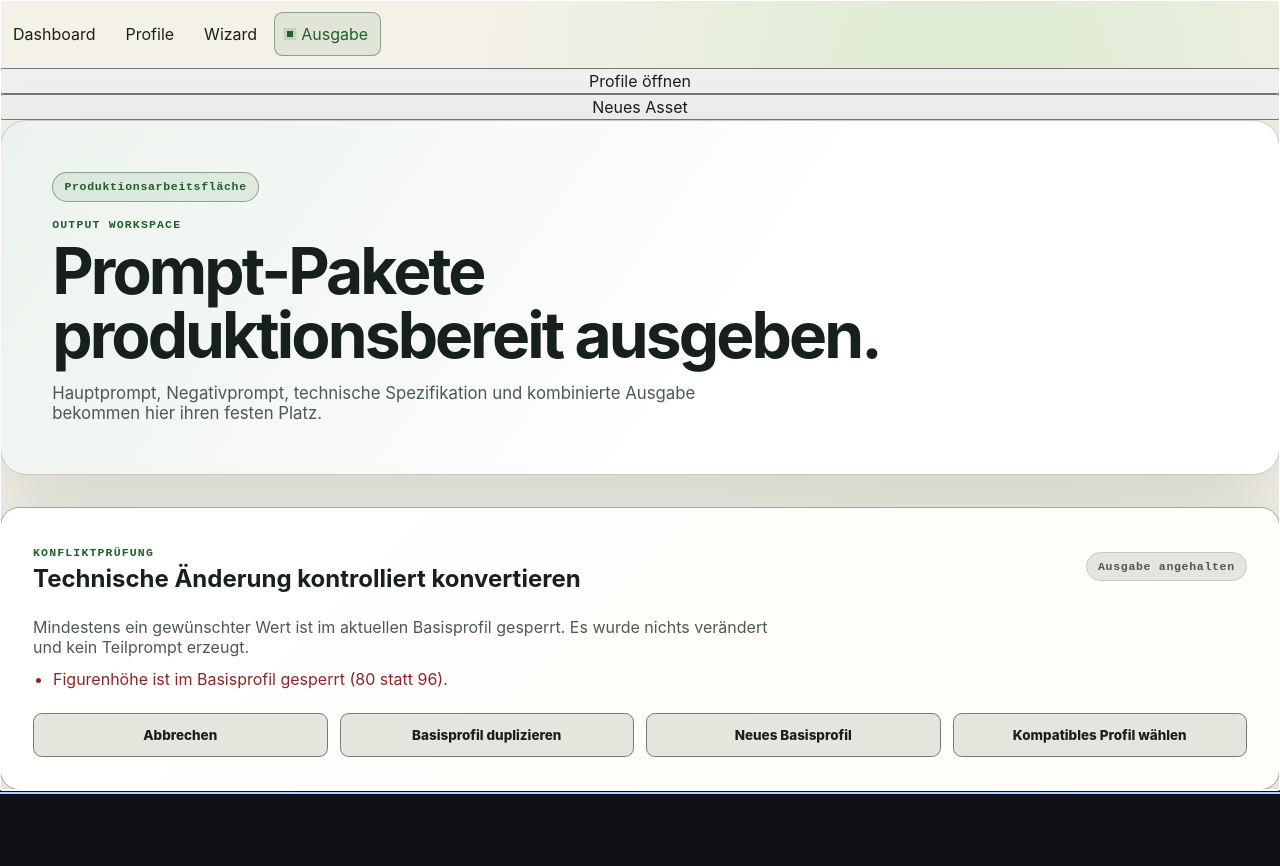
Test: ReviewOutputWorkspace › switches to an existing exact 96 px family without mutating the profile library
What coordinates should you click on to do the following:
click the button "Kompatibles Profil wählen"
I would click on:
 (1100, 735)
Its box is x1=952 y1=713 x2=1247 y2=757.
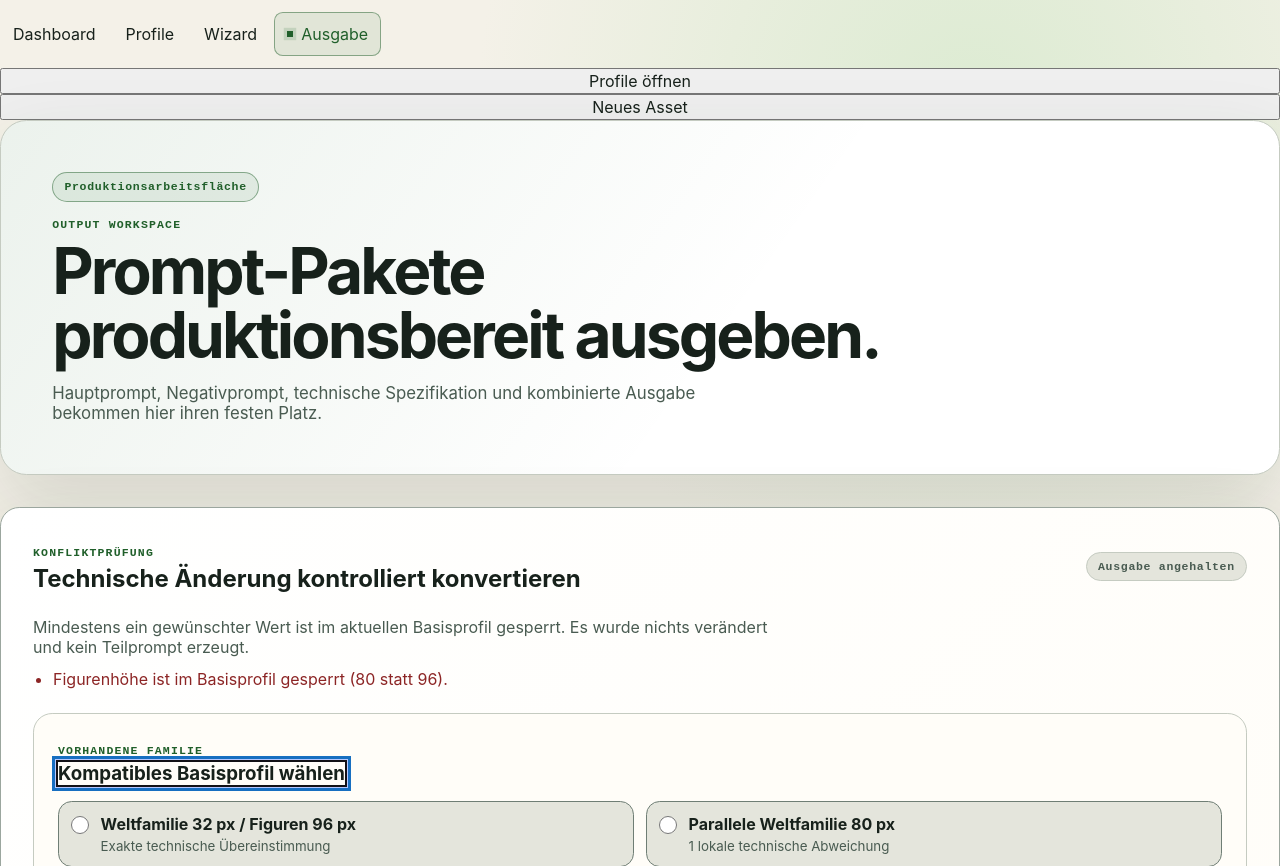
What coordinates should you click on to do the following:
click the 1st radio button
I would click on:
 (80, 825)
Its box is x1=71 y1=816 x2=89 y2=834.
(page scrolled)
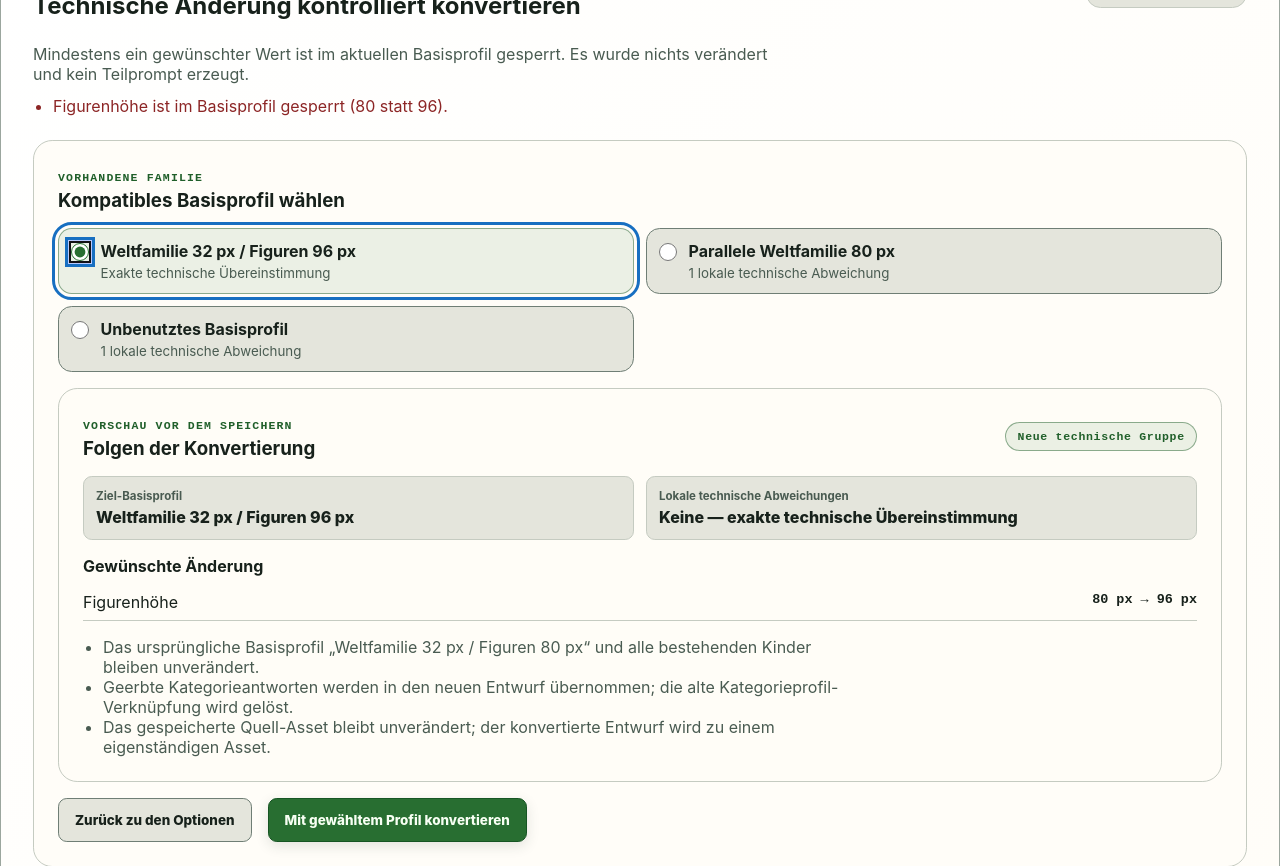
Now the text "Neue technische Gruppe" is shown, box x1=1005 y1=422 x2=1197 y2=451
Now the text "80 px → 96 px" is shown, box x1=1092 y1=592 x2=1197 y2=612
What coordinates should you click on to do the following:
click the button "Mit gewähltem Profil konvertieren"
I would click on:
 (397, 820)
Its box is x1=268 y1=798 x2=527 y2=842.
(page scrolled)
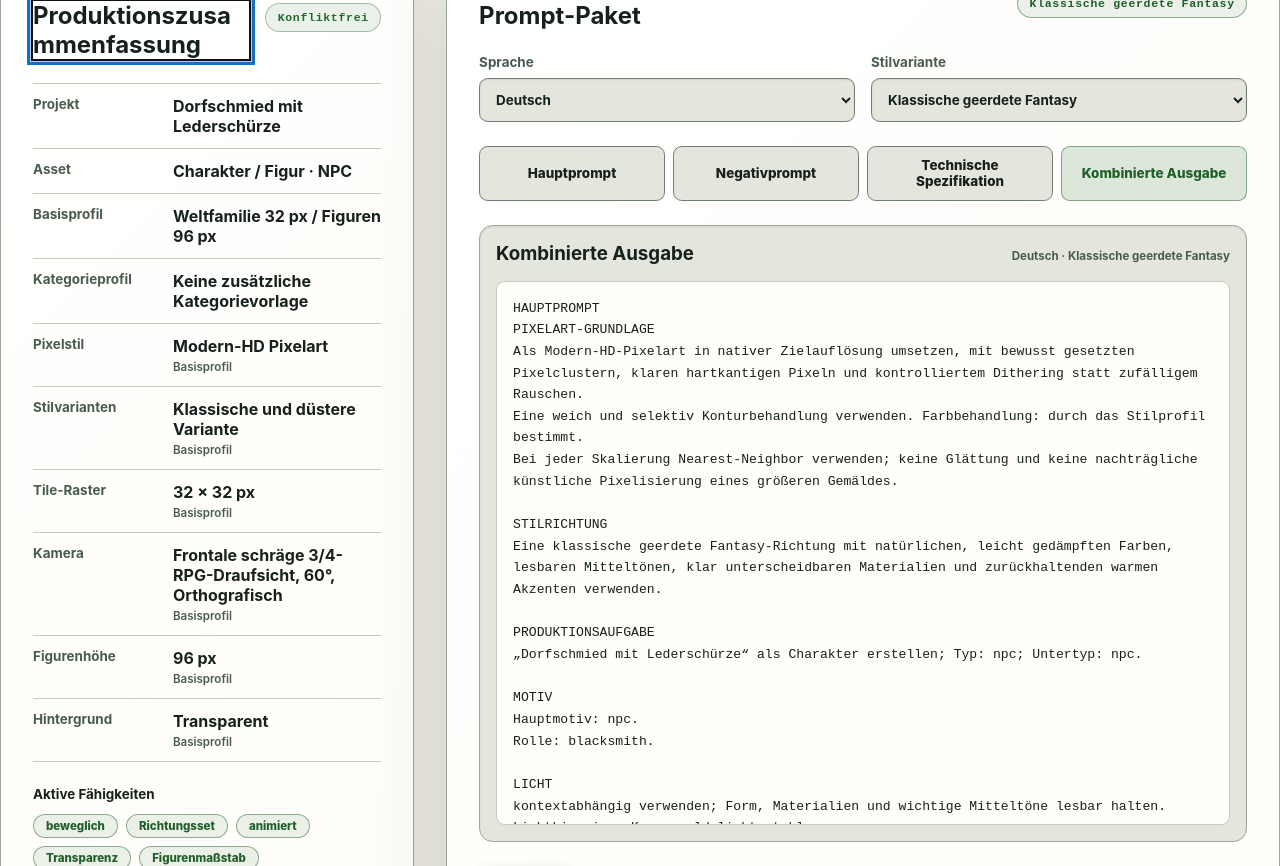
Now the text "Weltfamilie 32 px / Figuren 96 px" is shown, box x1=173 y1=206 x2=381 y2=246
Now the heading "Produktionszusammenfassung" is shown, box x1=33 y1=1 x2=250 y2=59
